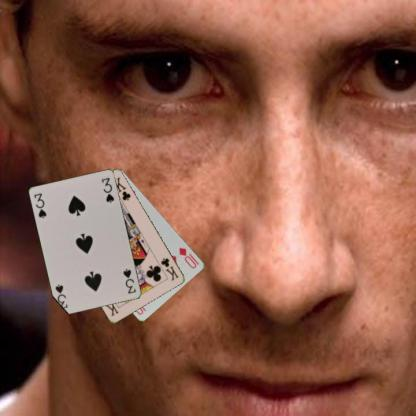10d: (177, 245, 200, 270)
3s: (31, 191, 48, 220), (121, 266, 137, 296)
Kc: (158, 255, 180, 282)
